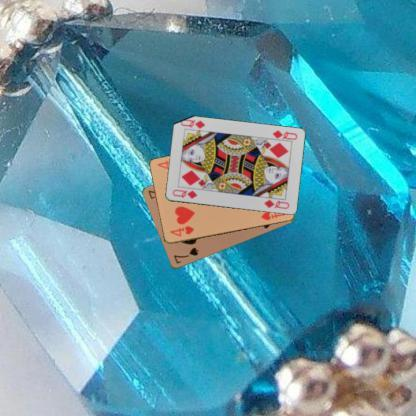4h: (168, 224, 196, 238)
7s: (171, 246, 200, 264)
Qd: (268, 128, 298, 144), (170, 188, 198, 200)
